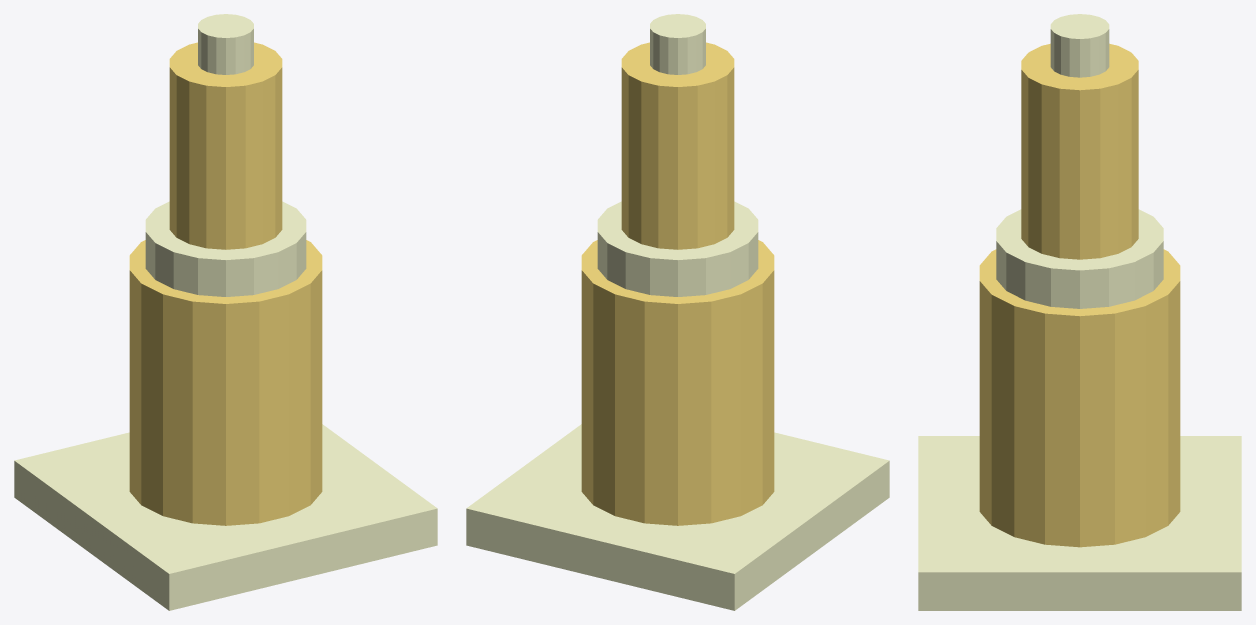
Rendered from furniture_traffic_cone.glb.
The picture shows the model from 3 angles, left to right: view 1: azimuth 30°, elevation 25°; view 2: azimuth 150°, elevation 25°; view 3: azimuth 270°, elevation 25°; orthographic projection. The views are drawn at different scales.
Parts seen in each view (by area): view 1: body_lower, base, body_upper, band_center, tip; view 2: body_lower, base, body_upper, band_center, tip; view 3: body_lower, base, body_upper, band_center, tip.
Boxes of the visible parts, <box> form: body_lower: <box>129,240,322,525</box>; base: <box>14,424,437,610</box>; body_upper: <box>169,42,282,249</box>; band_center: <box>145,201,306,296</box>; tip: <box>198,14,253,74</box>; body_lower: <box>581,240,774,525</box>; base: <box>466,424,889,610</box>; body_upper: <box>621,42,734,249</box>; band_center: <box>597,201,758,296</box>; tip: <box>650,14,705,74</box>; body_lower: <box>979,249,1180,547</box>; base: <box>918,436,1241,610</box>; body_upper: <box>1021,43,1138,259</box>; band_center: <box>996,209,1163,308</box>; tip: <box>1050,14,1109,77</box>.
Size of the model in its own units: 0.38 by 0.67 by 0.38.
